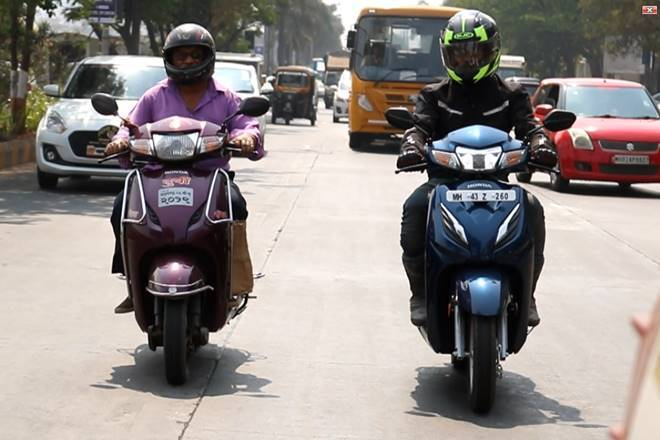bike: (415, 9, 534, 411), (118, 22, 239, 388)
bus: (343, 4, 432, 151)
car: (535, 70, 660, 191), (34, 43, 129, 185)
rickshaw: (270, 63, 318, 133)
